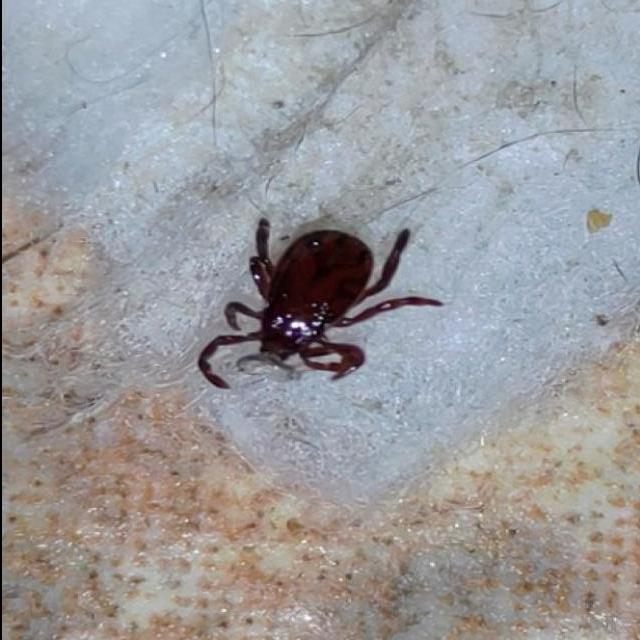Rhipicephalus Sanguineus-M: (196, 221, 441, 391)
